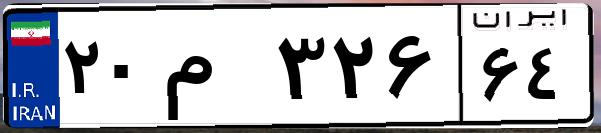0: (110, 28, 158, 98)
2: (330, 28, 385, 110), (57, 26, 110, 100)
3: (270, 28, 330, 110)
4: (525, 38, 570, 115)
6: (385, 28, 445, 110), (475, 38, 525, 113)
م: (158, 20, 270, 120)
